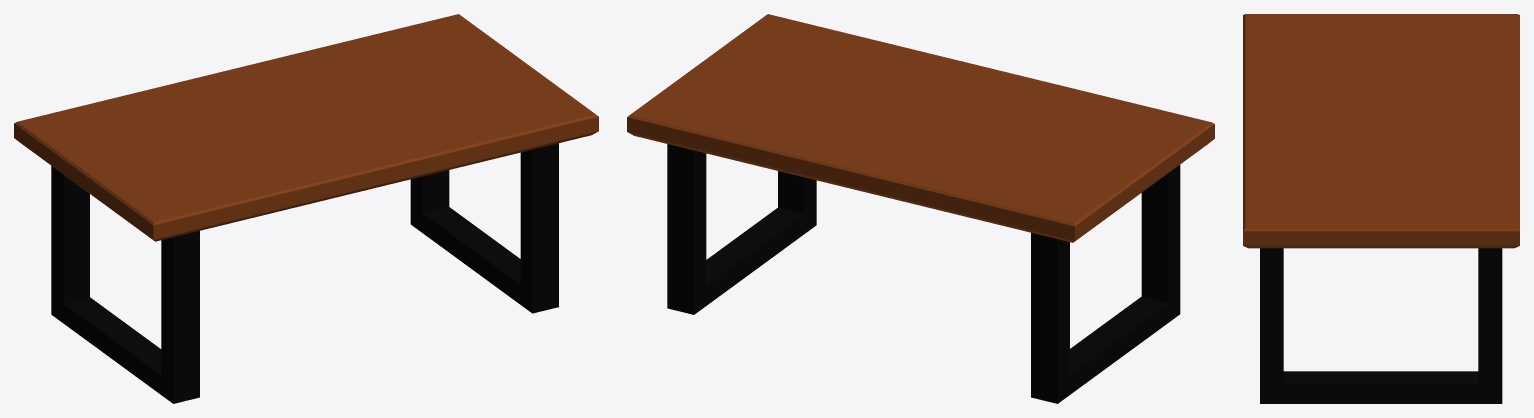
Rendered from Medium table.fbx.
3 renders of one model, left to right at view 1: azimuth 30°, elevation 25°; view 2: azimuth 150°, elevation 25°; view 3: azimuth 270°, elevation 25°, orthographic.
Parts seen in each view (by area): view 1: Medium; view 2: Medium; view 3: Medium.
Boxes of the visible parts, bbox=[...] form: Medium: bbox=[14, 14, 598, 403]; Medium: bbox=[627, 14, 1214, 403]; Medium: bbox=[1243, 14, 1519, 403].
Bounding box in the file's own units: 382 × 158 × 207.
